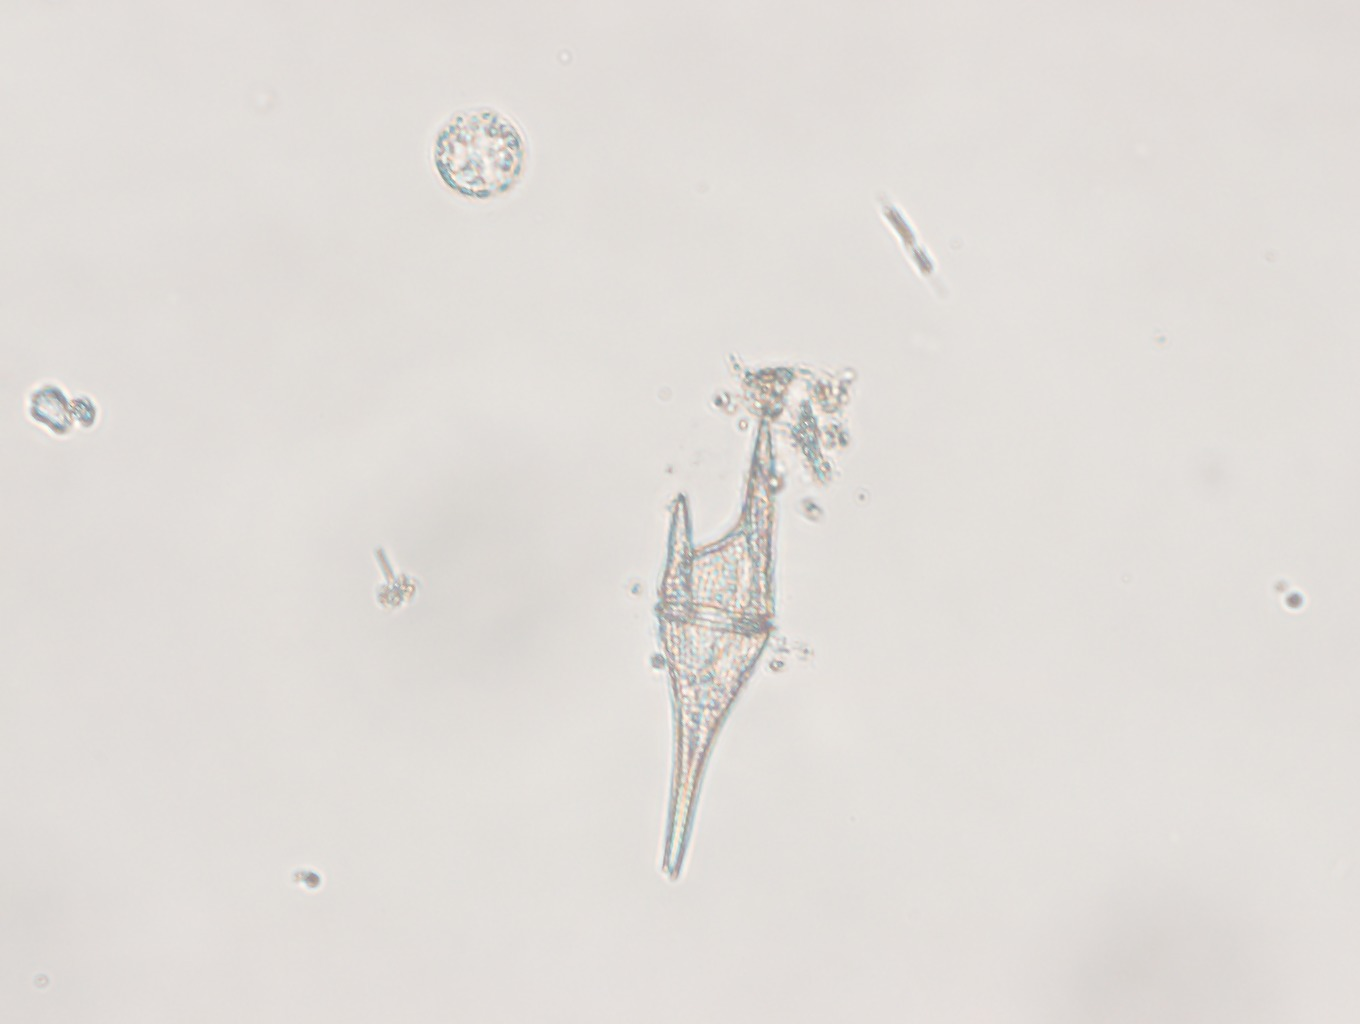ceratium furca: (653, 412, 775, 880)
